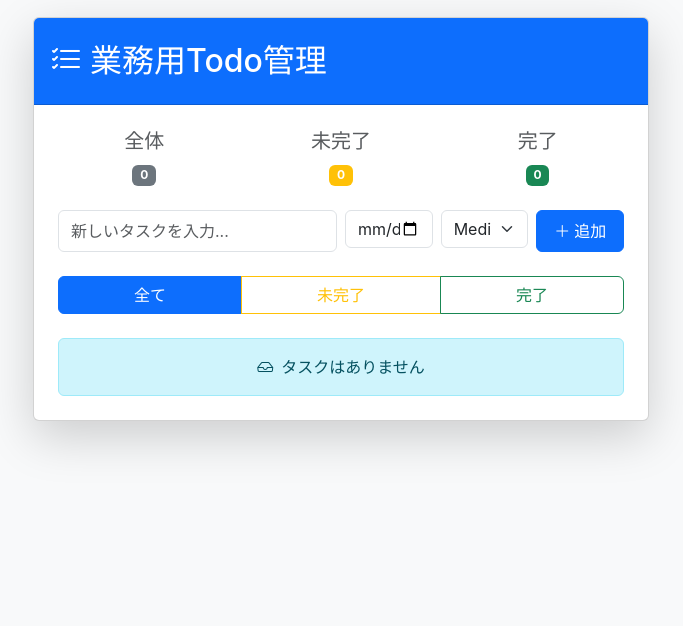
Test: TodoApp コンポーネント › 完了済みを削除ボタンが完了タスクのみ削除する
2つのタスクを追加
Type "タスク1" into the field with placeholder "新しいタスクを入力..." at x=198, y=231, box [58, 210, 337, 252]
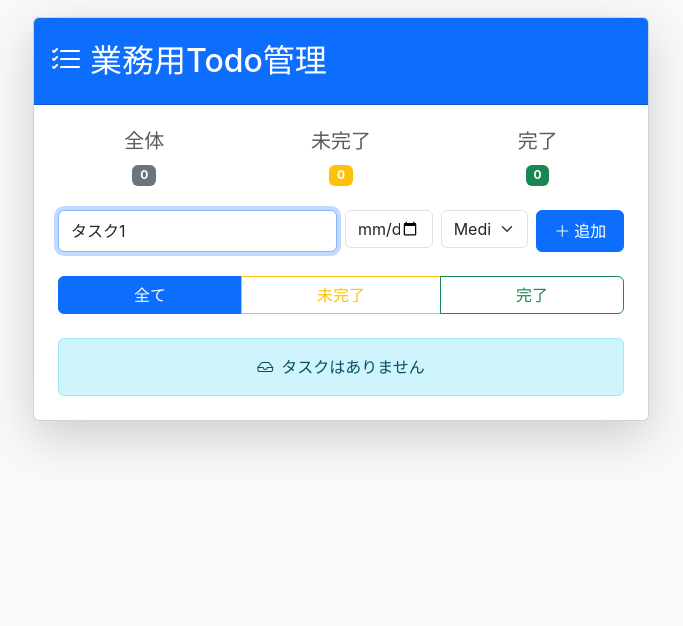
Click the button "追加" at x=580, y=231, box [536, 210, 624, 252]
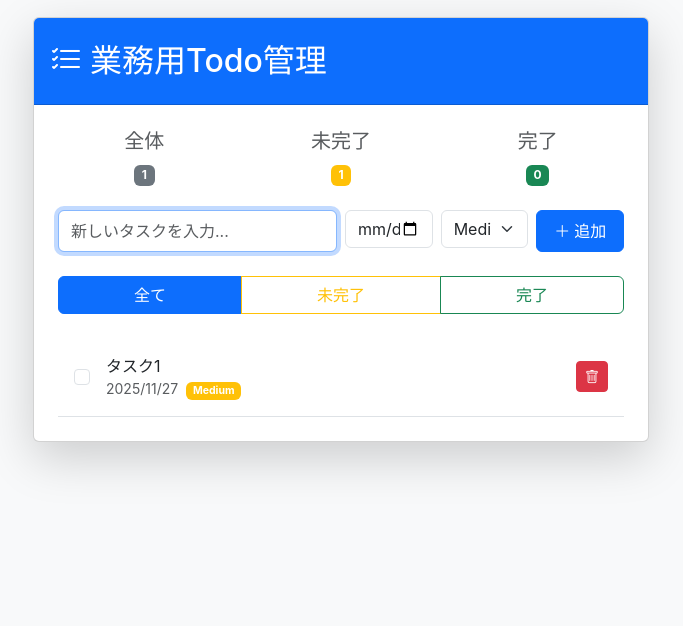
Type "タスク2" into the field with placeholder "新しいタスクを入力..." at x=198, y=231, box [58, 210, 337, 252]
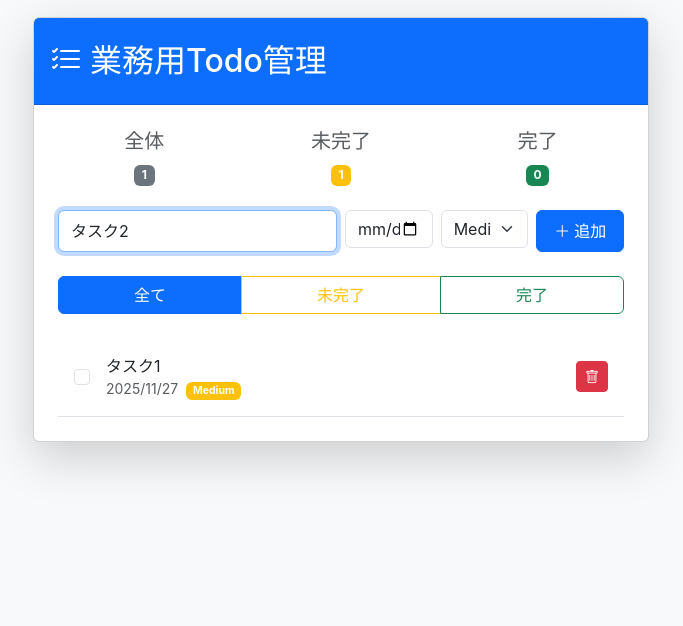
Click the button "追加" at x=580, y=231, box [536, 210, 624, 252]
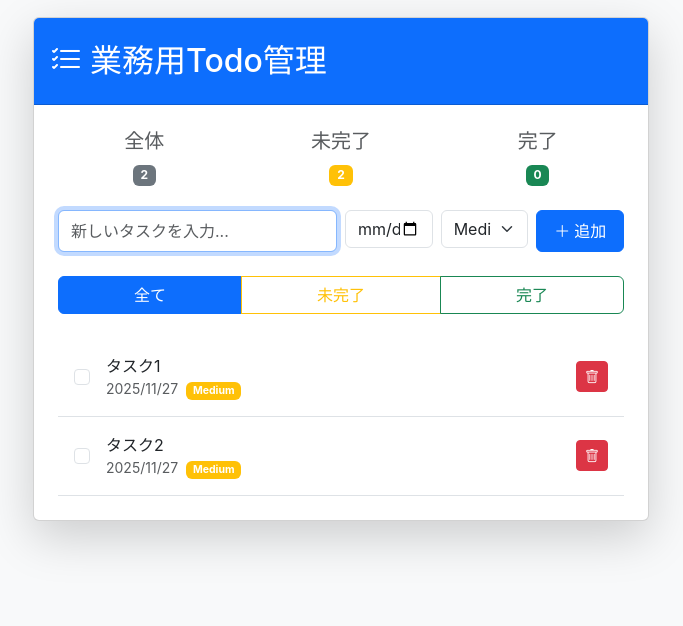
1つ目のタスクを完了
Click the checkbox next to "タスク1" at x=82, y=377, box [74, 369, 90, 385]
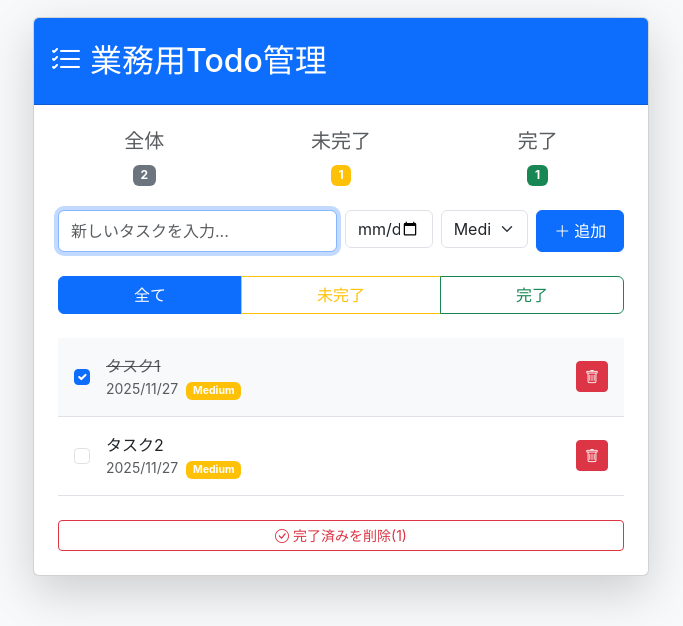
完了済みを削除ボタンをクリック
Click the button "完了済みを削除(1)" at x=341, y=535, box [58, 520, 624, 551]
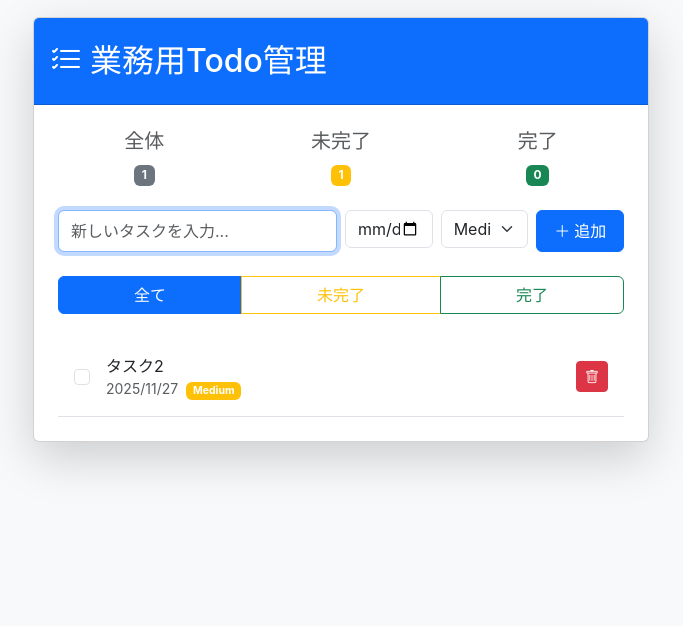
expect the text "タスク2" is shown: met, box [106, 356, 164, 376]
expect the text "タスク1" is gone: met
